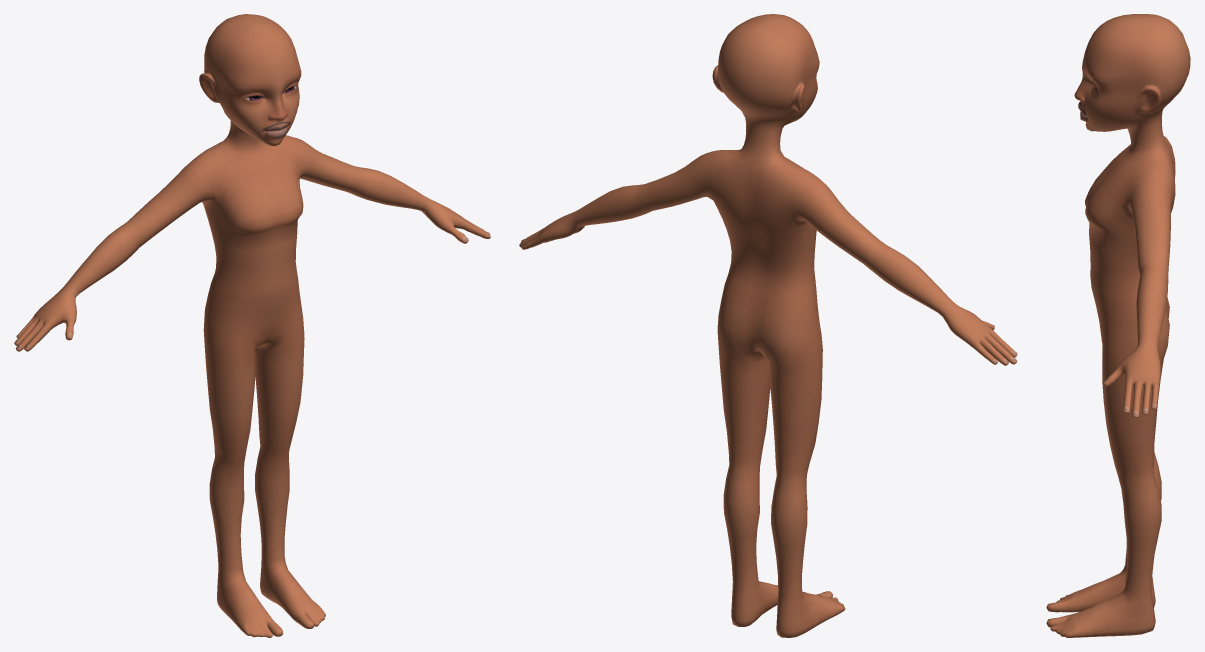
Rendered from frame_0043.glb.
3 views of the same model, side by side, from view 1: azimuth 30°, elevation 25°; view 2: azimuth 150°, elevation 25°; view 3: azimuth 270°, elevation 25° (orthographic). The views are drawn at different scales.
Parts seen in each view (by area): view 1: frame_0043_head_geo; view 2: frame_0043_head_geo; view 3: frame_0043_head_geo.
Part boxes in pixels (<box>): frame_0043_head_geo: <box>14,14,490,637</box>; frame_0043_head_geo: <box>519,14,1017,637</box>; frame_0043_head_geo: <box>1046,14,1190,637</box>.
Size of the model in its own units: 1.28 by 1.5 by 0.3253.
Materials: 3 (3 with a texture image).
